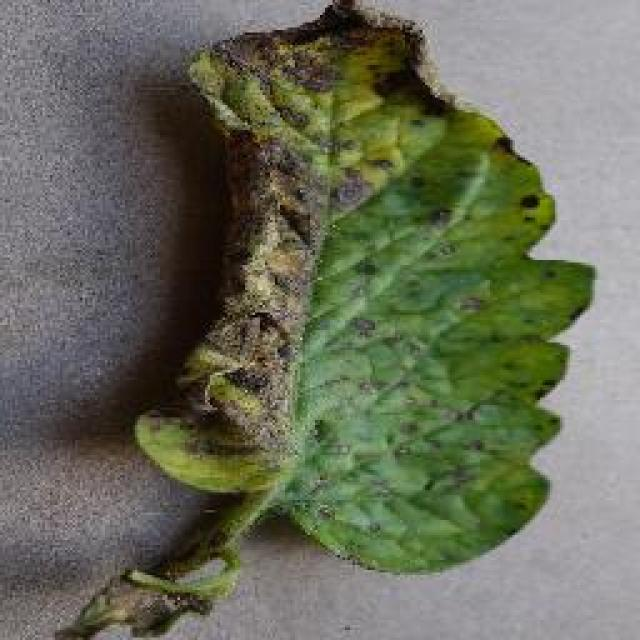Tomato_Early_Blight: (104, 0, 453, 511)
